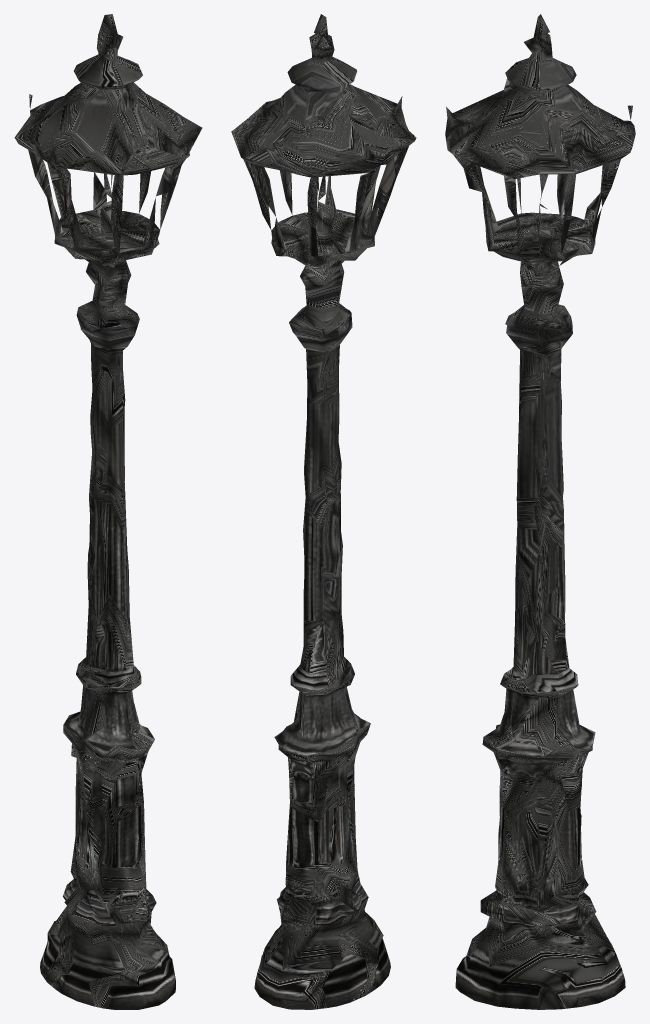
The model's file is lamp.glb.
3 renders of one model, left to right at view 1: azimuth 30°, elevation 25°; view 2: azimuth 150°, elevation 25°; view 3: azimuth 270°, elevation 25°, orthographic.
Bounding box in the file's own units: 0.3796 × 2.29 × 0.4087.
Materials: 1 (1 with a texture image).
